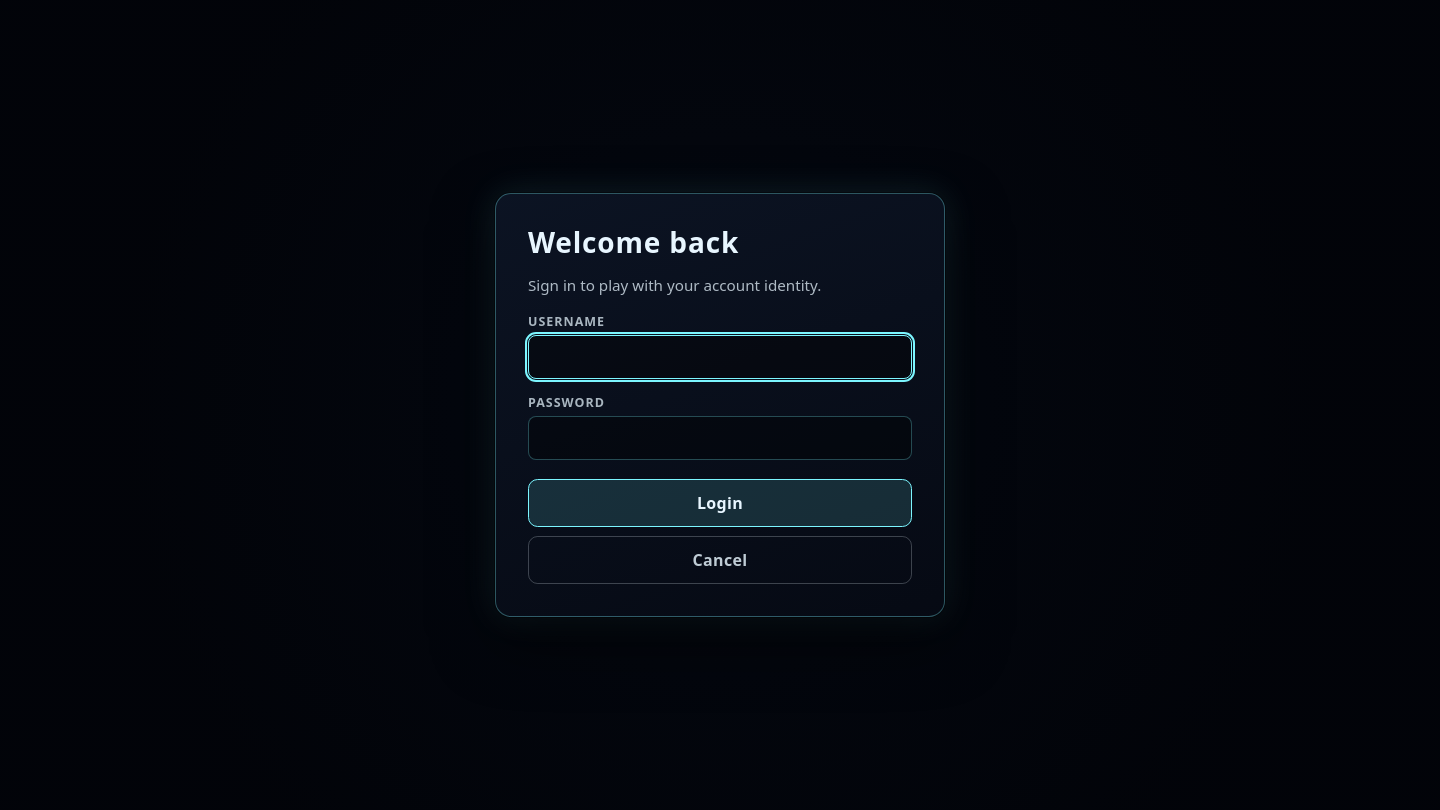
Test: AuthMenu — interaction › returns to the menu (buttons reappear) when Cancel is clicked in a form view
Expected: the button "Play as guest" is not shown
What coordinates should you click on to do the following:
click the button "Cancel"
I would click on:
 (720, 560)
Its box is left=528, top=536, right=912, bottom=584.
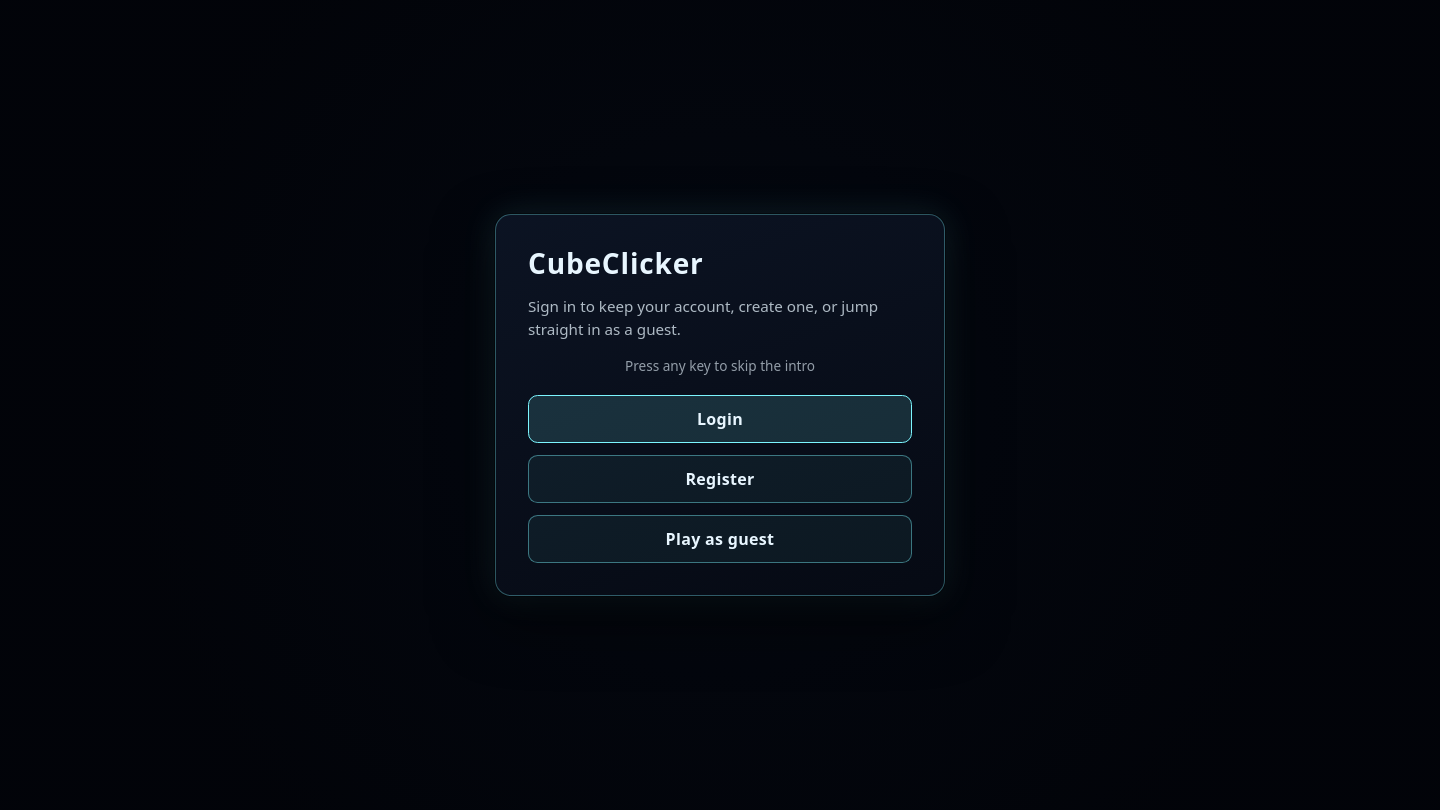
Expected: the button "Login" is shown, left=528, top=395, right=912, bottom=443
Now the button "Register" is shown, box left=528, top=455, right=912, bottom=503
Now the button "Play as guest" is shown, box left=528, top=515, right=912, bottom=563
